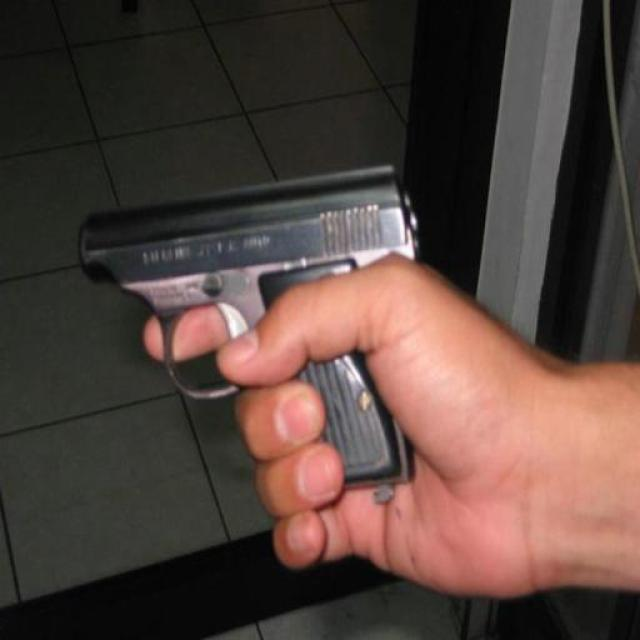pistol: (75, 159, 426, 490)
